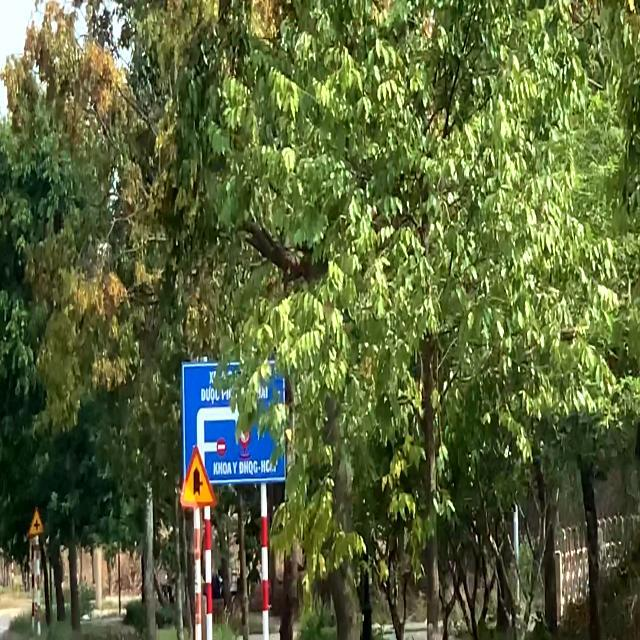W-205a: (23, 504, 44, 535)
W-207b: (178, 449, 214, 509)
